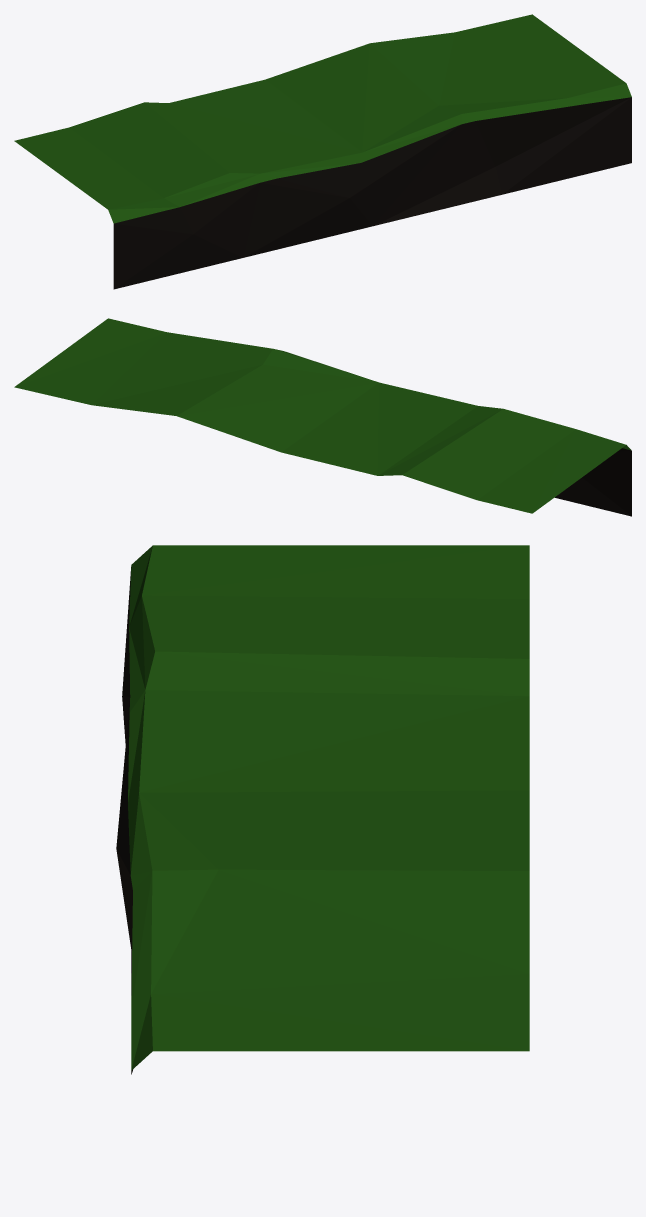
Rendered from 2D_Ground_Top_4.fbx.
The picture shows the model from 3 angles, top to bottom: view 1: azimuth 30°, elevation 25°; view 2: azimuth 150°, elevation 25°; view 3: azimuth 270°, elevation 25°; orthographic projection. The views are drawn at different scales.
Visible parts, largest first — view 1: 2D_Ground_Top_4; view 2: 2D_Ground_Top_4; view 3: 2D_Ground_Top_4.
Boxes of the visible parts, bbox=[...] form: 2D_Ground_Top_4: bbox=[14, 14, 631, 289]; 2D_Ground_Top_4: bbox=[14, 318, 631, 516]; 2D_Ground_Top_4: bbox=[116, 545, 529, 1074].
Bounding box in the file's own units: 2606 × 416 × 900.
